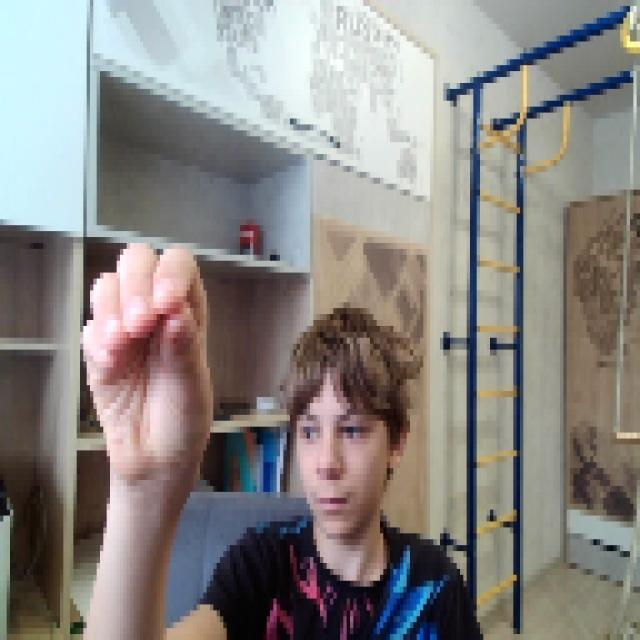left_click: (77, 225, 210, 486)
